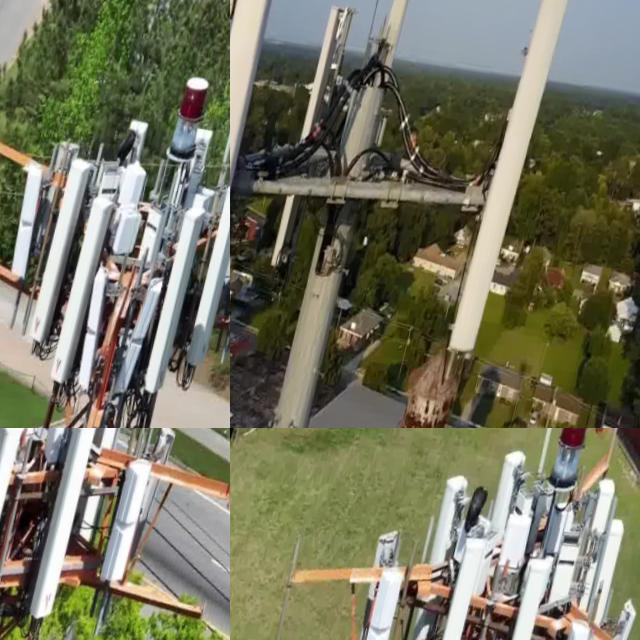GSM Antenna: (455, 0, 575, 364), (271, 7, 351, 283), (27, 428, 109, 632), (46, 191, 121, 394), (141, 206, 213, 402), (25, 159, 97, 354), (348, 0, 417, 199), (184, 178, 230, 384), (230, 0, 272, 209), (101, 456, 162, 597), (413, 534, 492, 640), (4, 161, 57, 291), (0, 428, 34, 628), (481, 553, 559, 640), (71, 266, 122, 395), (587, 517, 640, 627), (422, 465, 474, 577), (353, 558, 417, 640), (483, 451, 528, 543), (365, 520, 409, 611), (491, 511, 540, 582), (582, 482, 622, 556), (583, 590, 640, 640), (89, 428, 141, 462)
